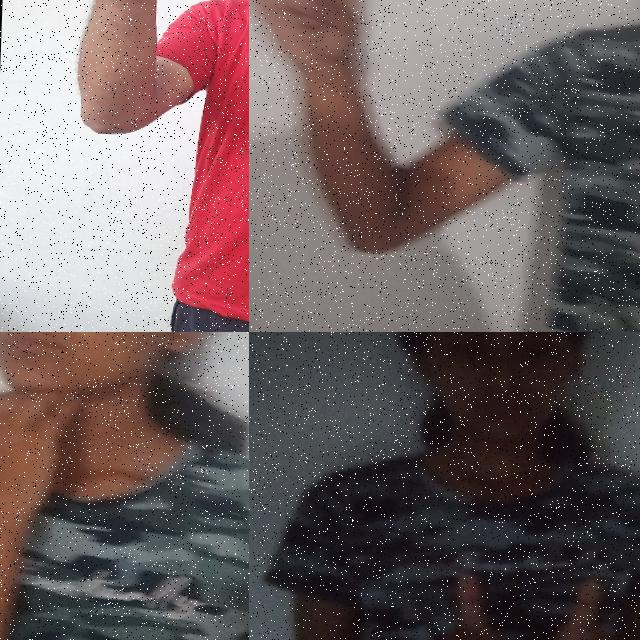Chin Flick: (0, 332, 237, 533)
Corna: (249, 0, 395, 96)
Thumbs Up: (400, 563, 516, 640), (544, 566, 640, 640)
